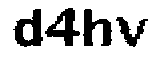4: (47, 5, 82, 49)
d: (8, 7, 45, 52)
h: (83, 5, 114, 51)
v: (116, 13, 147, 52)
